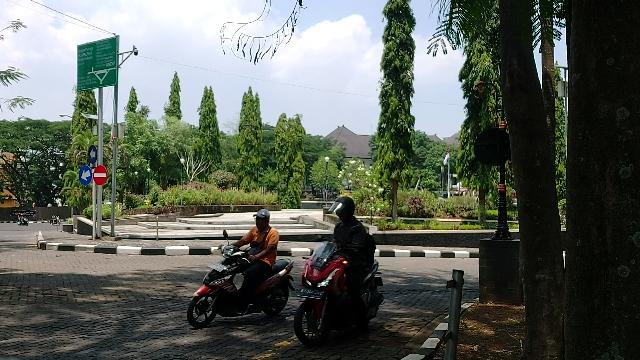helm: (330, 197, 356, 221)
motor: (298, 243, 385, 349), (190, 248, 293, 329)
non-helm: (254, 210, 271, 230)
